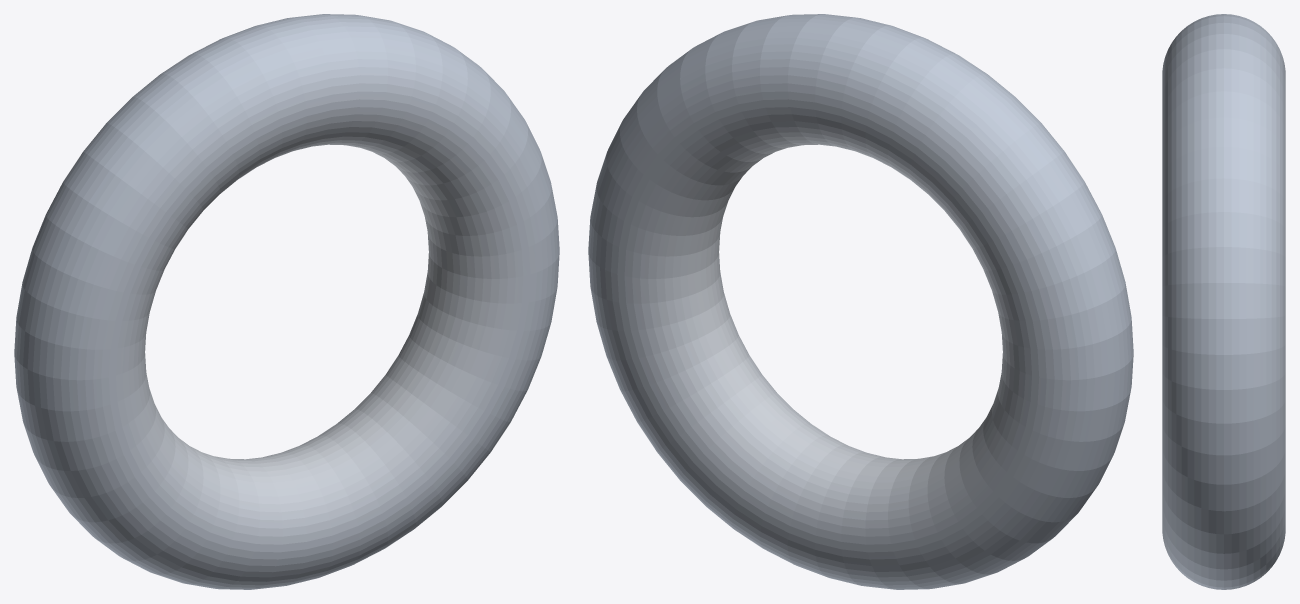
3 renders of one model, left to right at view 1: azimuth 30°, elevation 25°; view 2: azimuth 150°, elevation 25°; view 3: azimuth 270°, elevation 25°, orthographic. The views are drawn at different scales.
Visible parts, largest first — view 1: world; view 2: world; view 3: world.
Boxes of the visible parts, x1,y1,x2,y2 form: world: (14, 14, 559, 589); world: (588, 14, 1133, 589); world: (1162, 14, 1285, 589).
Size of the model in its own units: 25.47 by 25.42 by 5.46.
